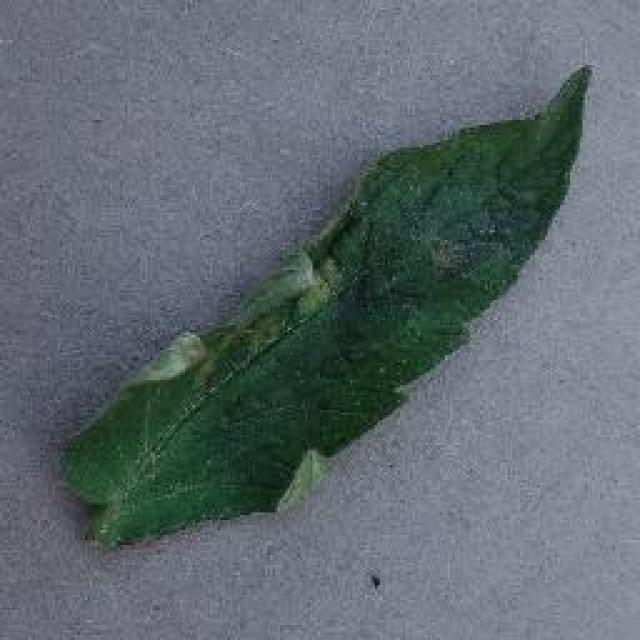Tom_Leaf_Mold: (145, 235, 364, 420), (400, 185, 521, 291)
